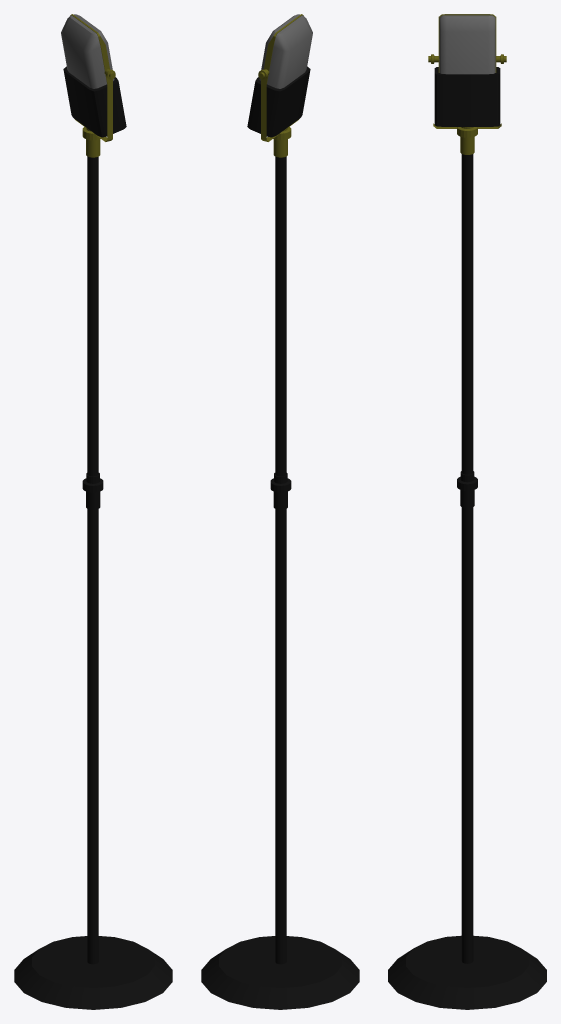
Rendered from micro.FBX.
The picture shows the model from 3 angles, left to right: view 1: azimuth 30°, elevation 25°; view 2: azimuth 150°, elevation 25°; view 3: azimuth 270°, elevation 25°; orthographic projection.
Visible parts, largest first — view 1: Cylinder004, Cylinder006, Box001, base, Cylinder005, fin, Cylinder003; view 2: Cylinder004, Cylinder006, Box001, base, Cylinder005, fin, Cylinder003; view 3: Cylinder004, Cylinder006, base, Box001, Cylinder005, Cylinder003.
Part boxes in pixels (bbox=[...]): Cylinder004: bbox=[87, 156, 98, 964]; Cylinder006: bbox=[14, 936, 172, 1009]; Box001: bbox=[61, 14, 114, 88]; base: bbox=[63, 66, 126, 137]; Cylinder005: bbox=[82, 473, 103, 509]; fin: bbox=[74, 78, 112, 141]; Cylinder003: bbox=[82, 126, 100, 157]; Cylinder004: bbox=[275, 156, 286, 964]; Cylinder006: bbox=[201, 936, 359, 1009]; Box001: bbox=[259, 14, 312, 88]; base: bbox=[247, 66, 310, 137]; Cylinder005: bbox=[270, 473, 291, 509]; fin: bbox=[261, 78, 299, 141]; Cylinder003: bbox=[273, 126, 291, 157]; Cylinder004: bbox=[461, 154, 473, 963]; Cylinder006: bbox=[388, 935, 546, 1009]; base: bbox=[434, 67, 500, 126]; Box001: bbox=[439, 14, 495, 74]; Cylinder005: bbox=[457, 471, 477, 508]; Cylinder003: bbox=[457, 127, 477, 154].
Bounding box in the file's own units: 50.24 × 329 × 49.47.
